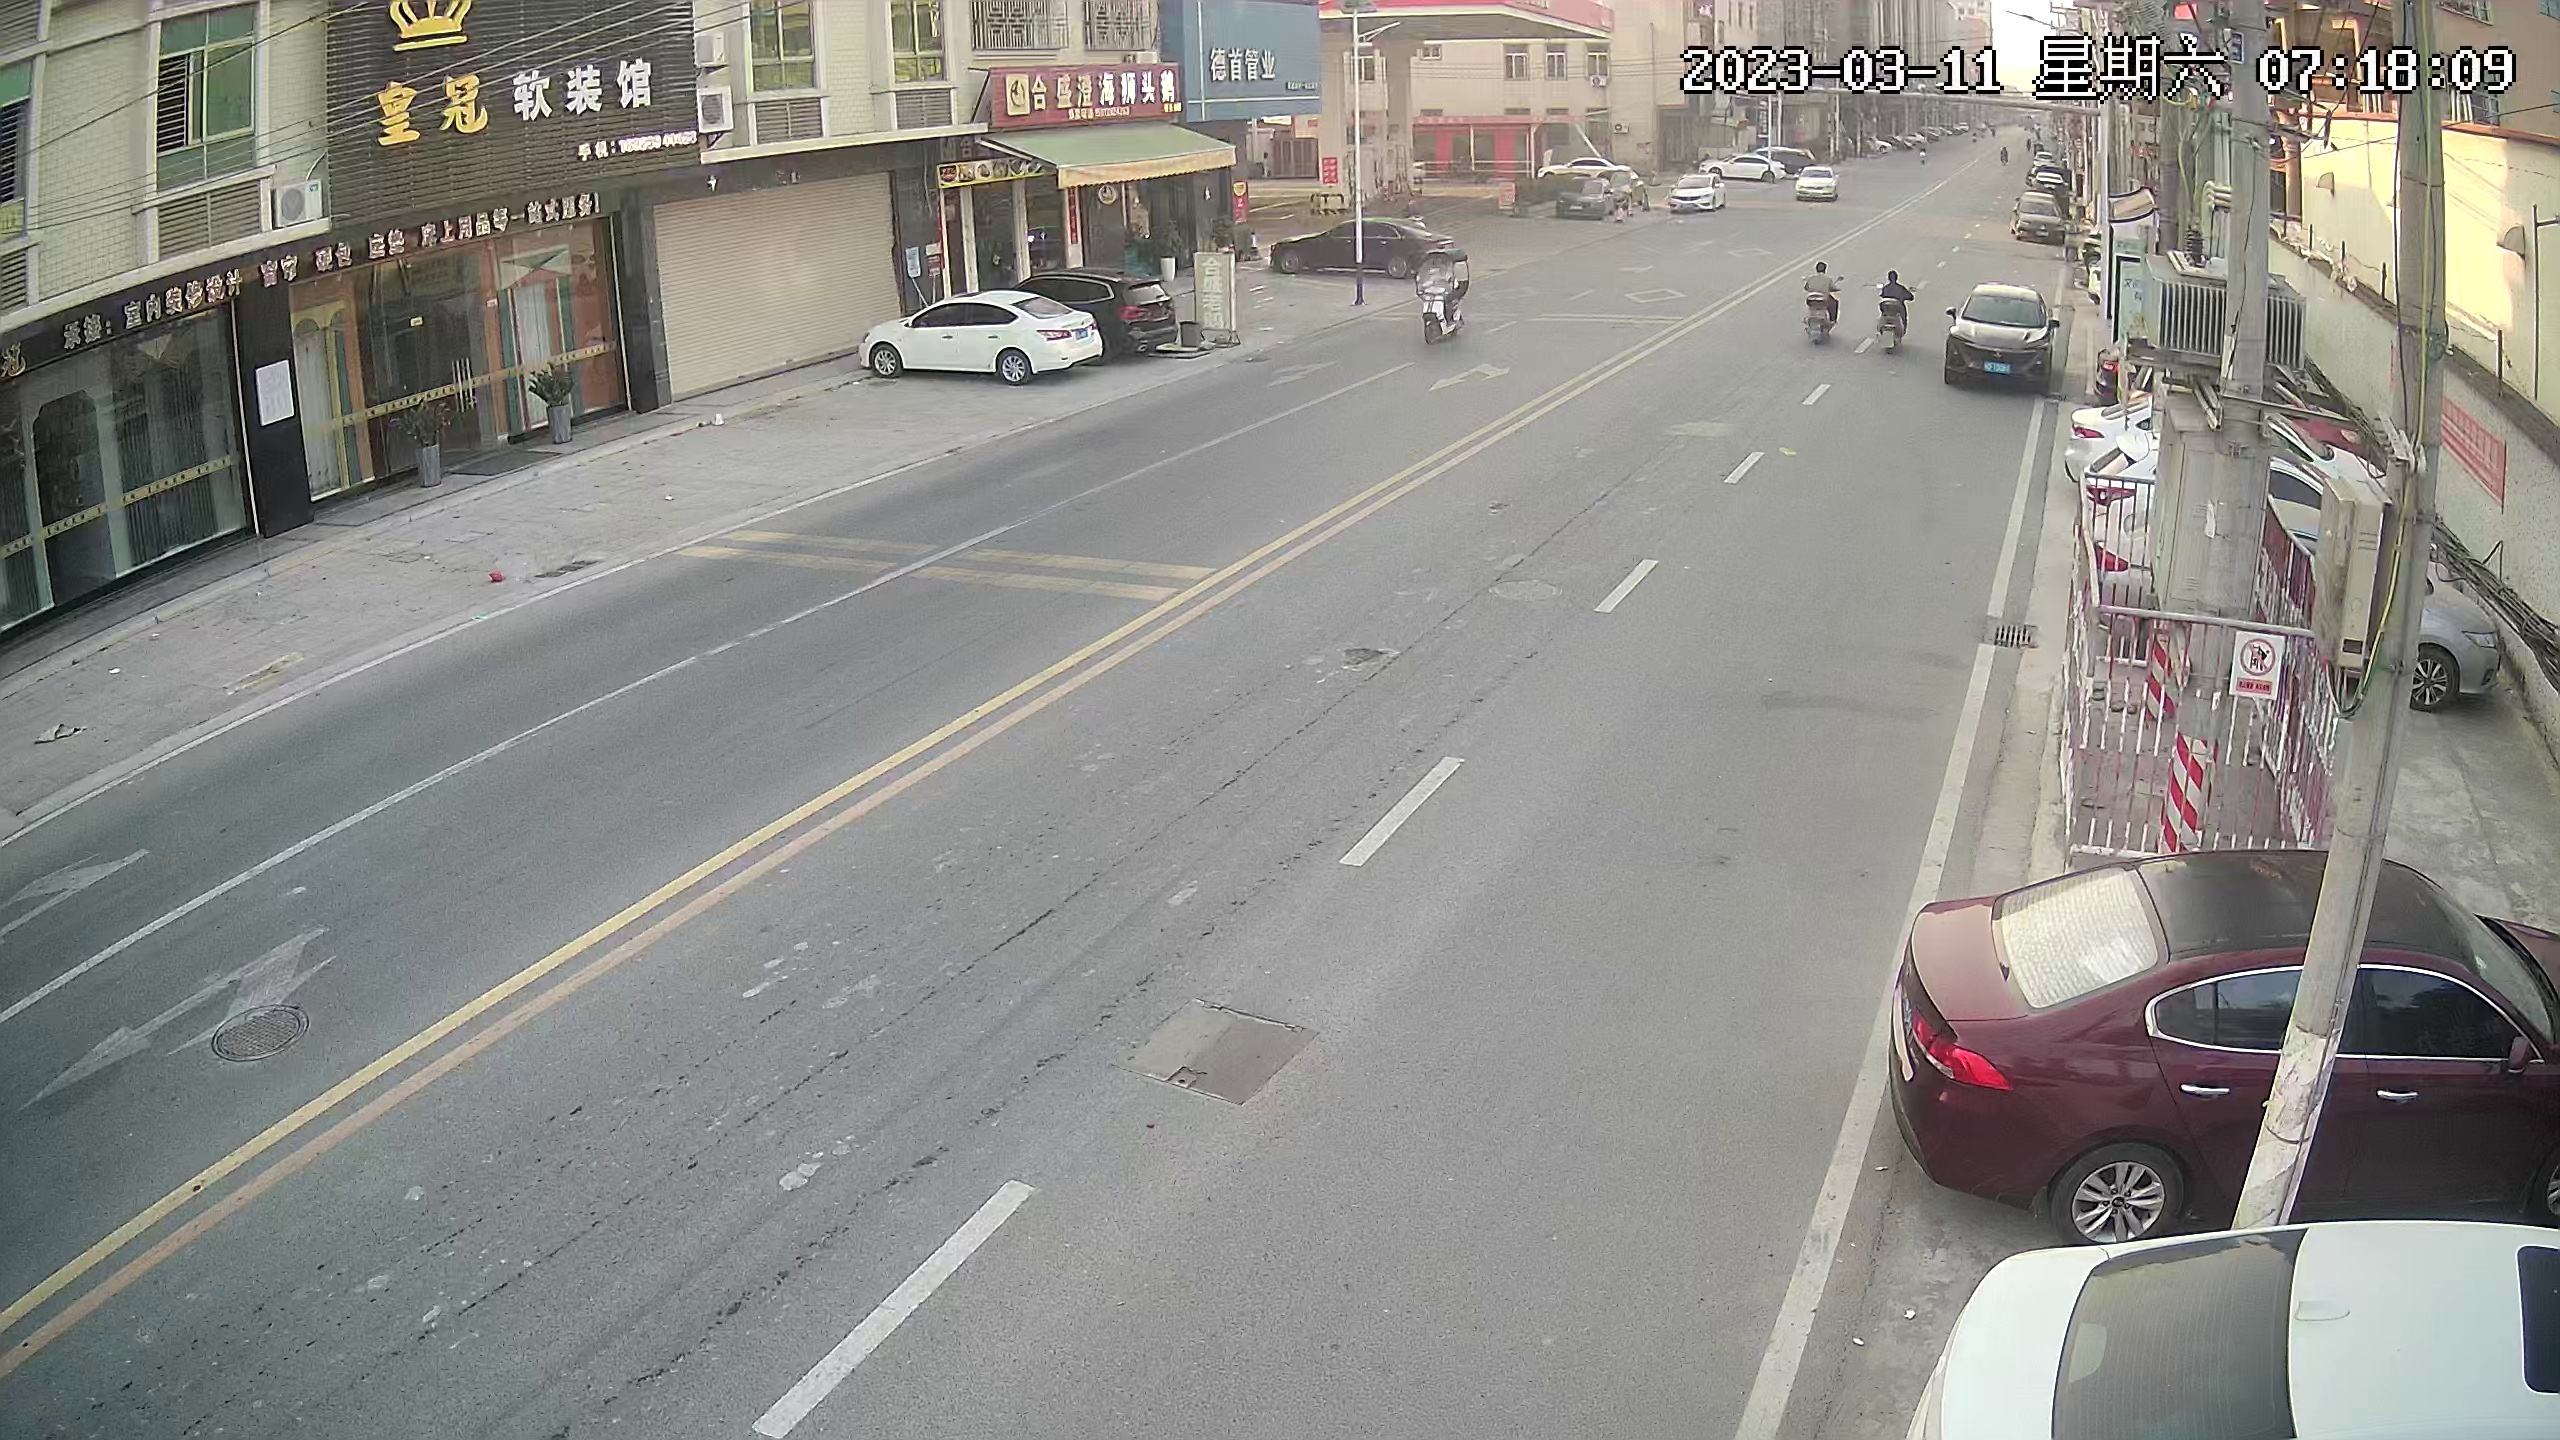motorcycle: (1421, 243, 1477, 355), (1871, 267, 1918, 359), (1793, 258, 1844, 343)
sedan: (1909, 855, 2558, 1197), (1924, 1238, 2560, 1440), (2099, 510, 2500, 702), (2094, 434, 2398, 513), (863, 302, 1090, 373), (1945, 278, 2061, 410), (1264, 220, 1449, 281), (2015, 188, 2068, 248), (1560, 172, 1618, 223), (1674, 172, 1728, 220), (1728, 148, 1778, 190), (1799, 162, 1837, 202)
suv: (1058, 269, 1175, 353)
